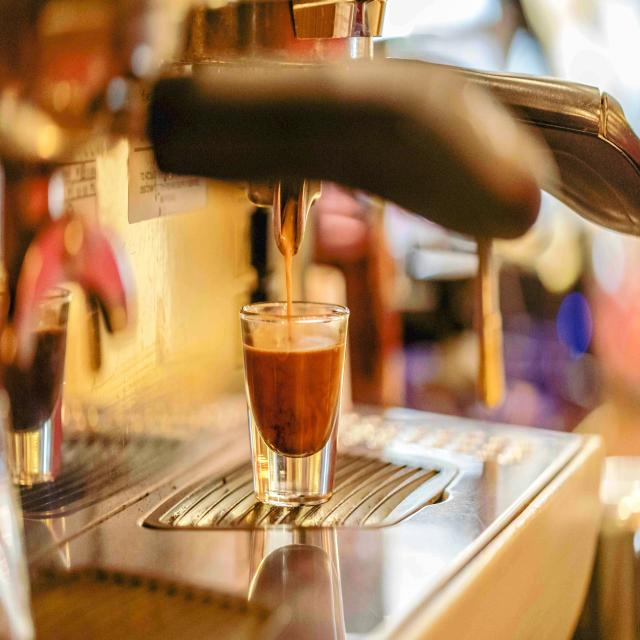drink: (240, 308, 351, 462)
